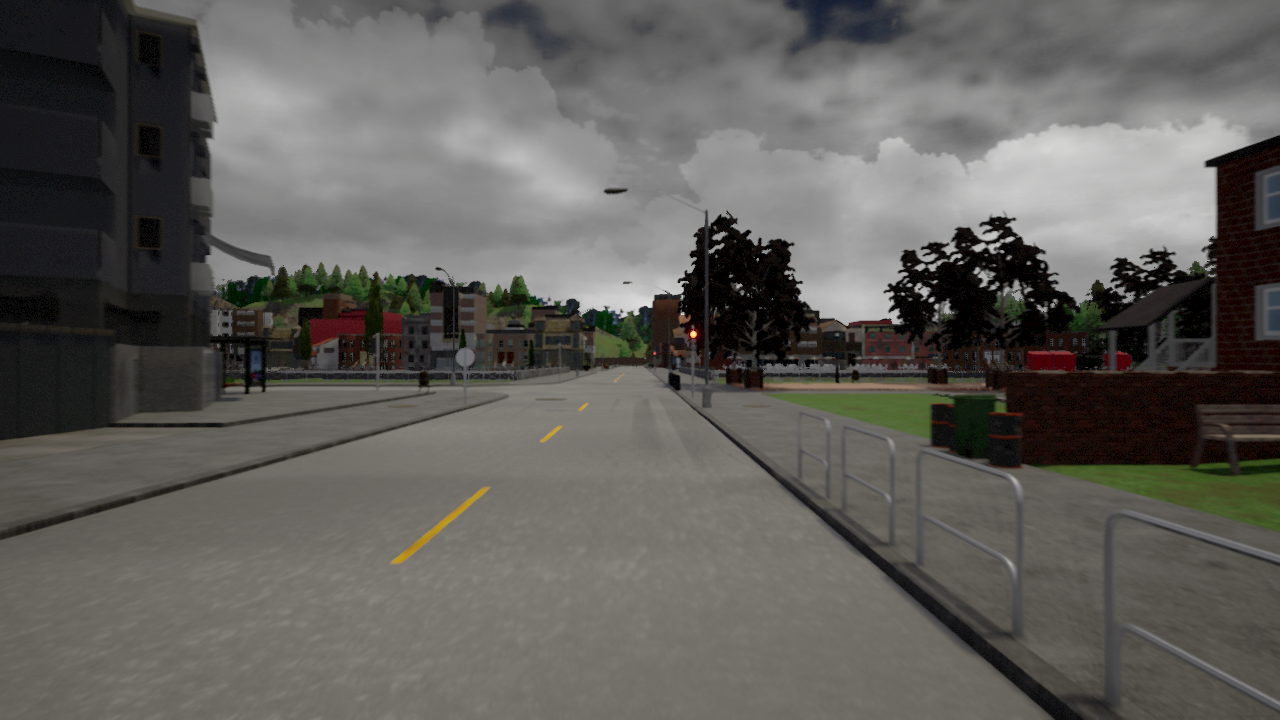red: (690, 329, 698, 352)
